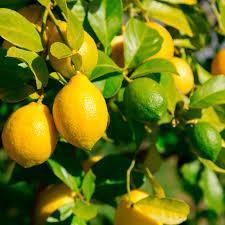lemon: (52, 73, 108, 152), (1, 102, 58, 168), (49, 19, 98, 78), (2, 3, 54, 48), (113, 189, 162, 225), (34, 182, 74, 225), (143, 21, 174, 59), (168, 57, 194, 95), (211, 46, 225, 74)
